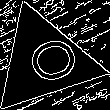O_W: (12, 32, 76, 90)
